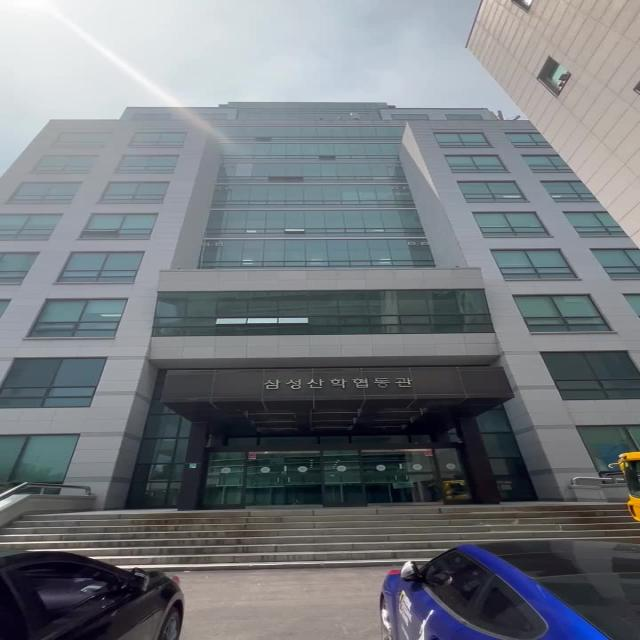building: (7, 83, 528, 473)
